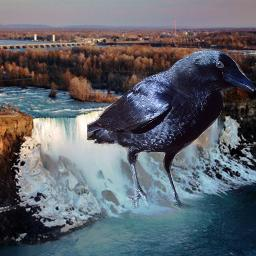Crow: (87, 50, 256, 212)
